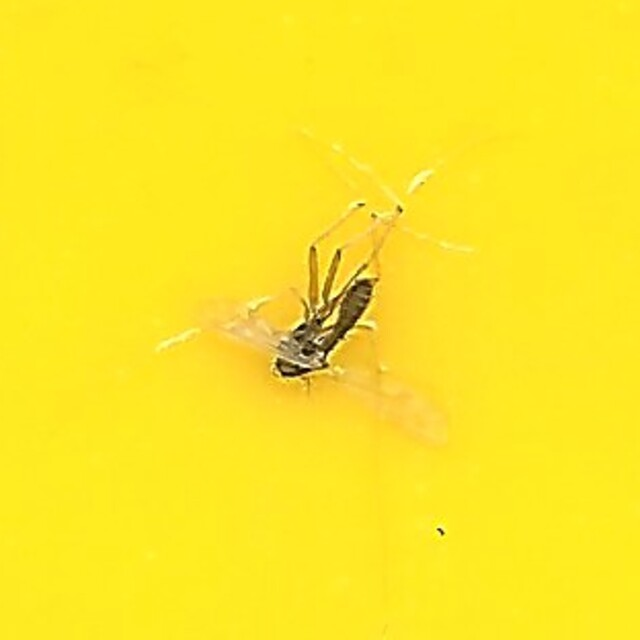Nematocera: (205, 196, 435, 444)
